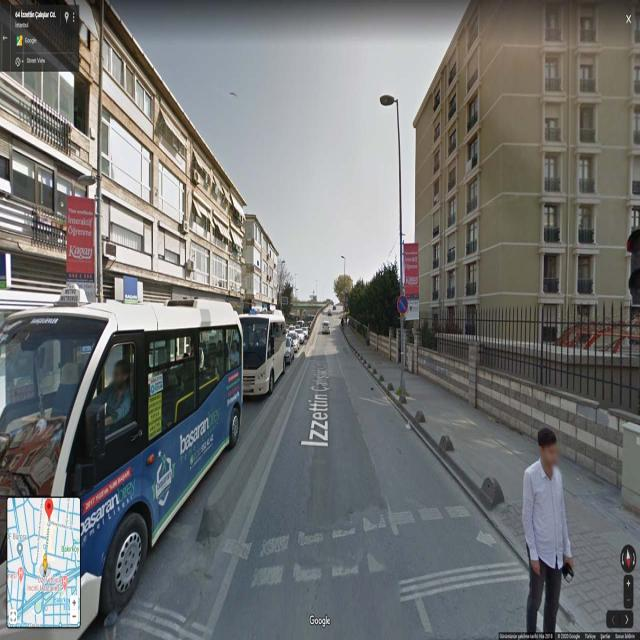parkyasak: (398, 293, 408, 315)
